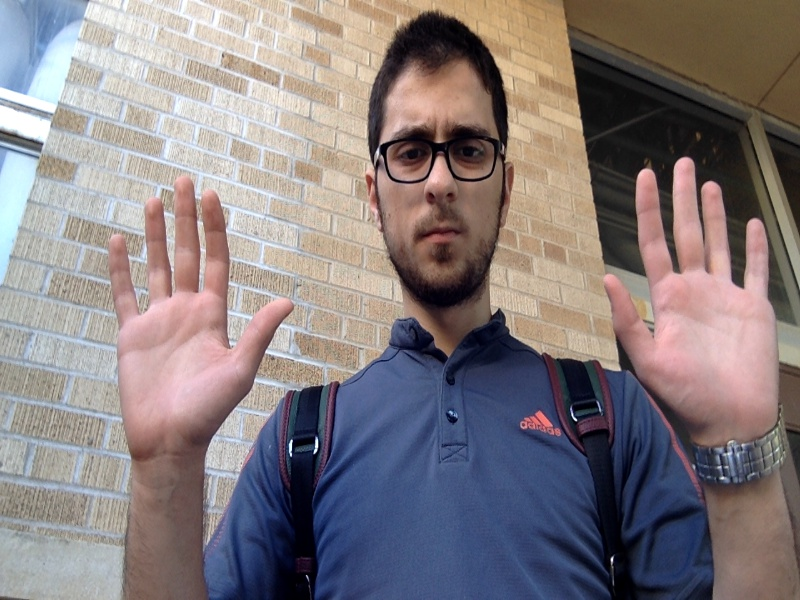5-hand: (108, 176, 292, 444), (604, 156, 777, 417)
